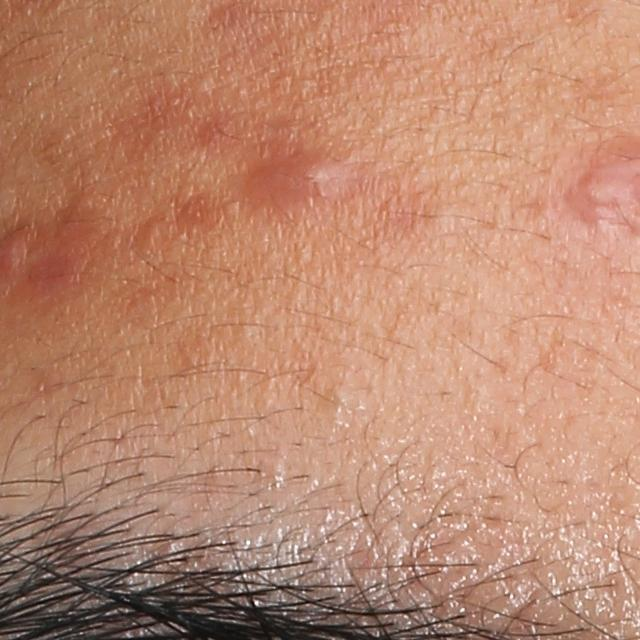comedo: (142, 219, 171, 250), (326, 386, 356, 411)
papule: (253, 149, 348, 200)
